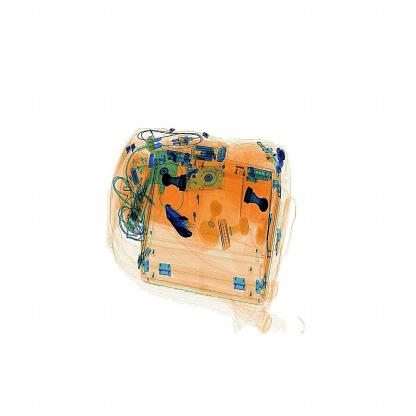pliers: (160, 202, 196, 248)
